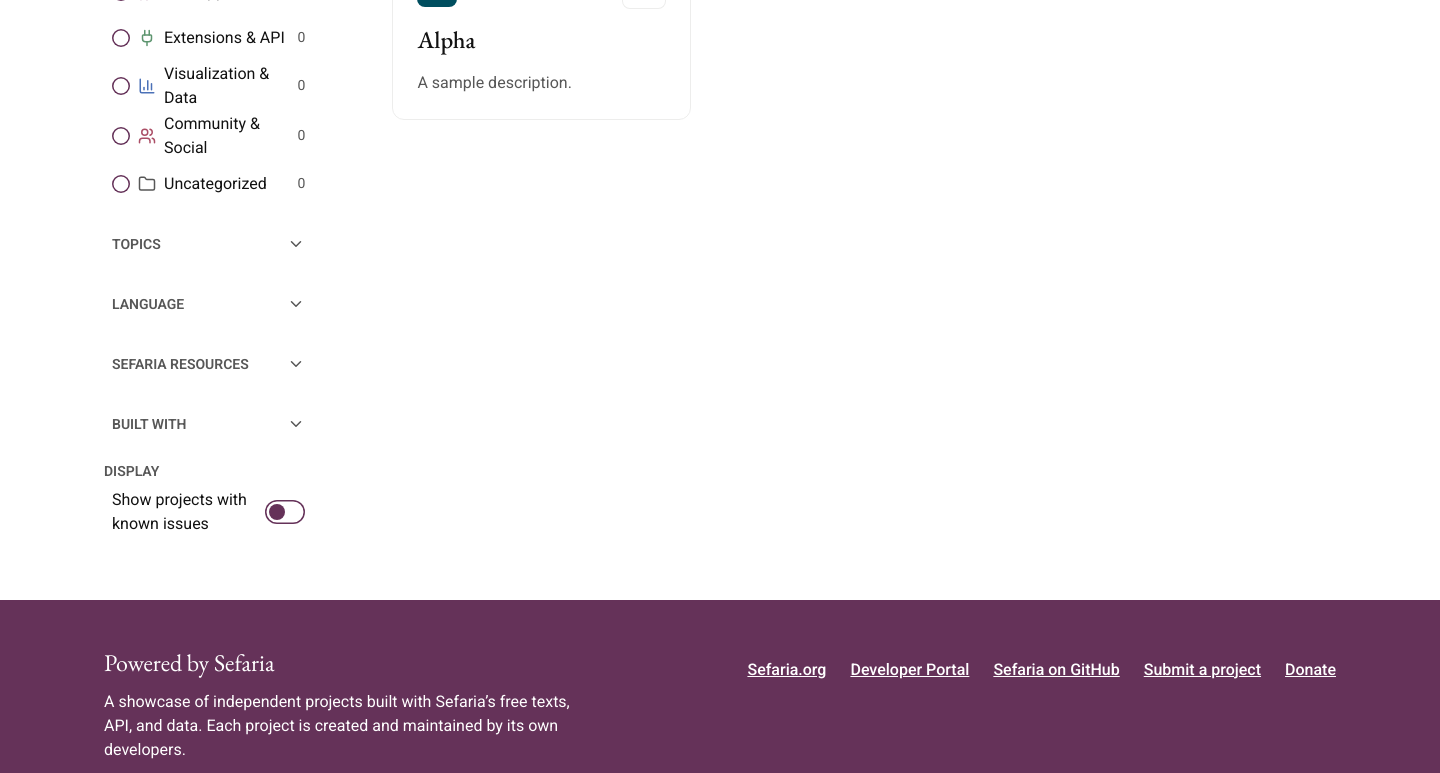
Scenario: BrowsePage › known issues › never features a buggy project, even when the switch is on
(page scrolled)
Check: the text "Buggy One" is not shown
What coordinates should you click on to do the following:
click the switch
I would click on:
 (209, 512)
Its box is [104,488,313,536].
(page scrolled)
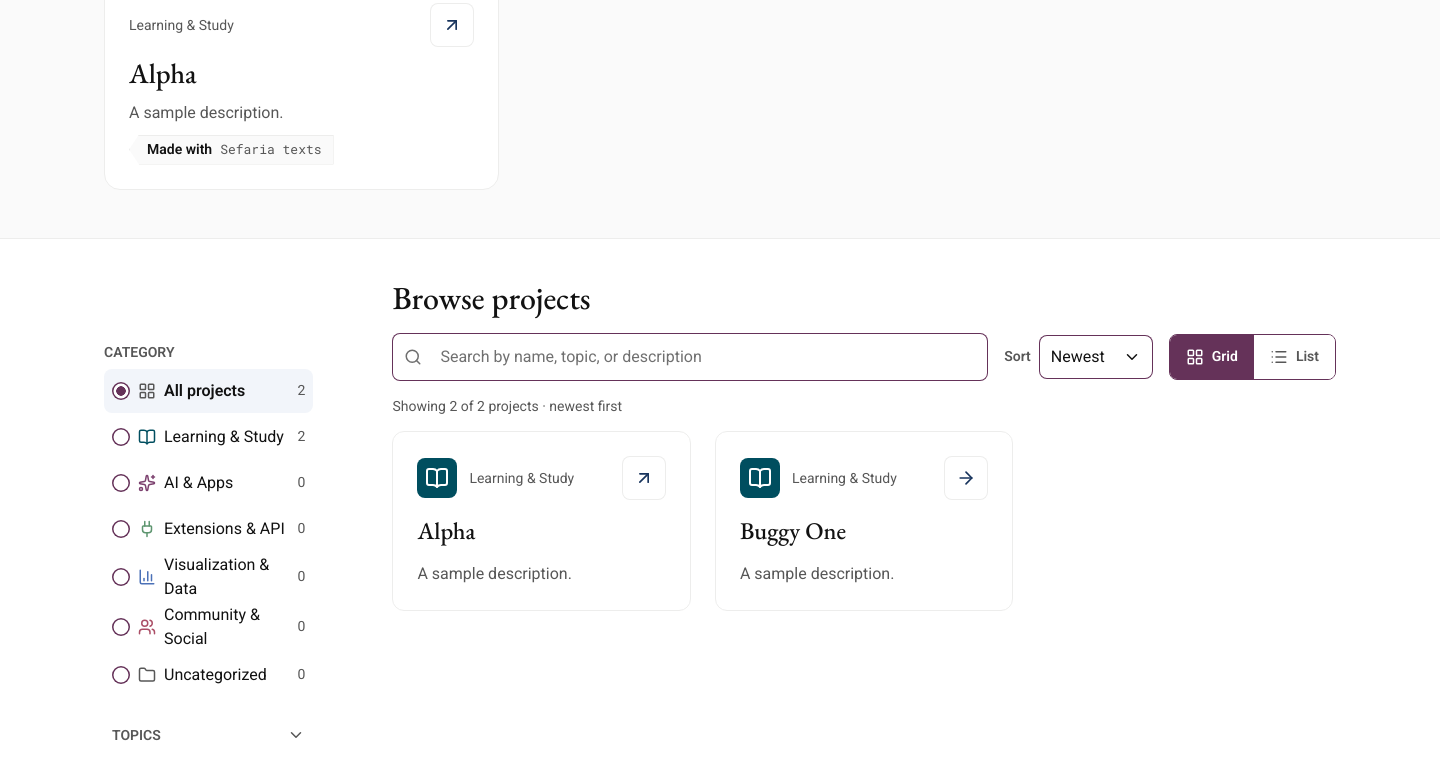
Check: the text "Showing 2 of 2 projects · newest first" is shown, box [392,398,622,414]
